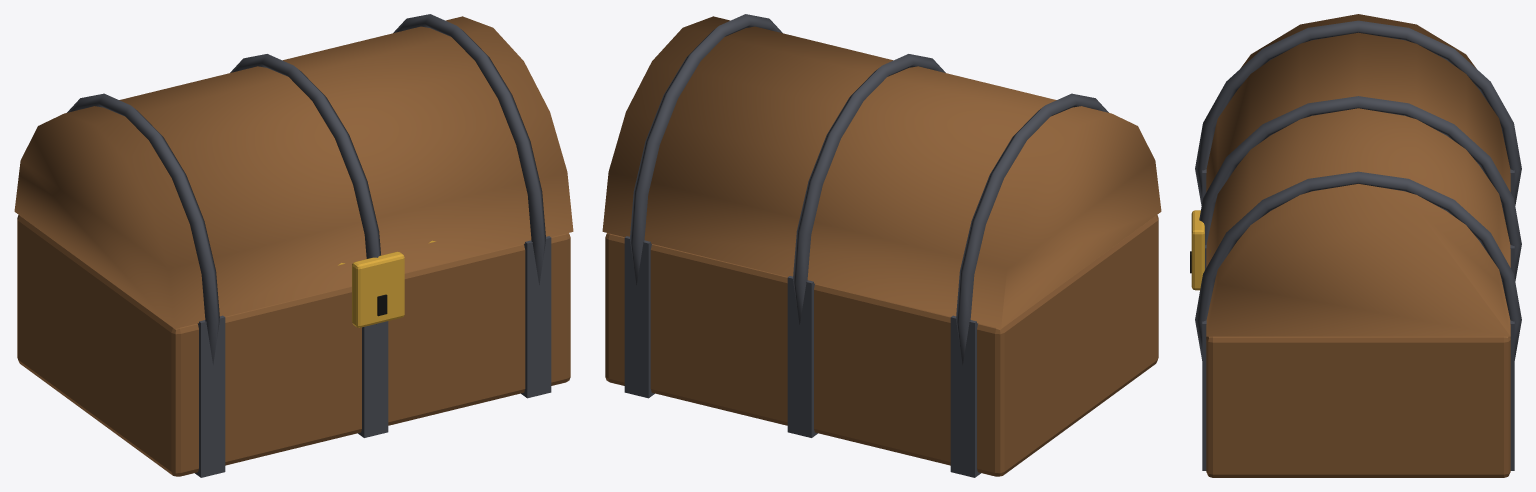
File: treasure_chest.glb
3 renders of one model, left to right at view 1: azimuth 30°, elevation 25°; view 2: azimuth 150°, elevation 25°; view 3: azimuth 270°, elevation 25°, orthographic. The views are drawn at different scales.
Visible parts, largest first — view 1: treasure_chest; view 2: treasure_chest; view 3: treasure_chest.
Boxes of the visible parts, x1,y1,x2,y2 form: treasure_chest: (14,14,573,477); treasure_chest: (602,14,1161,477); treasure_chest: (1190,14,1521,477).
Size of the model in its own units: 0.66 by 0.494 by 0.5015.
